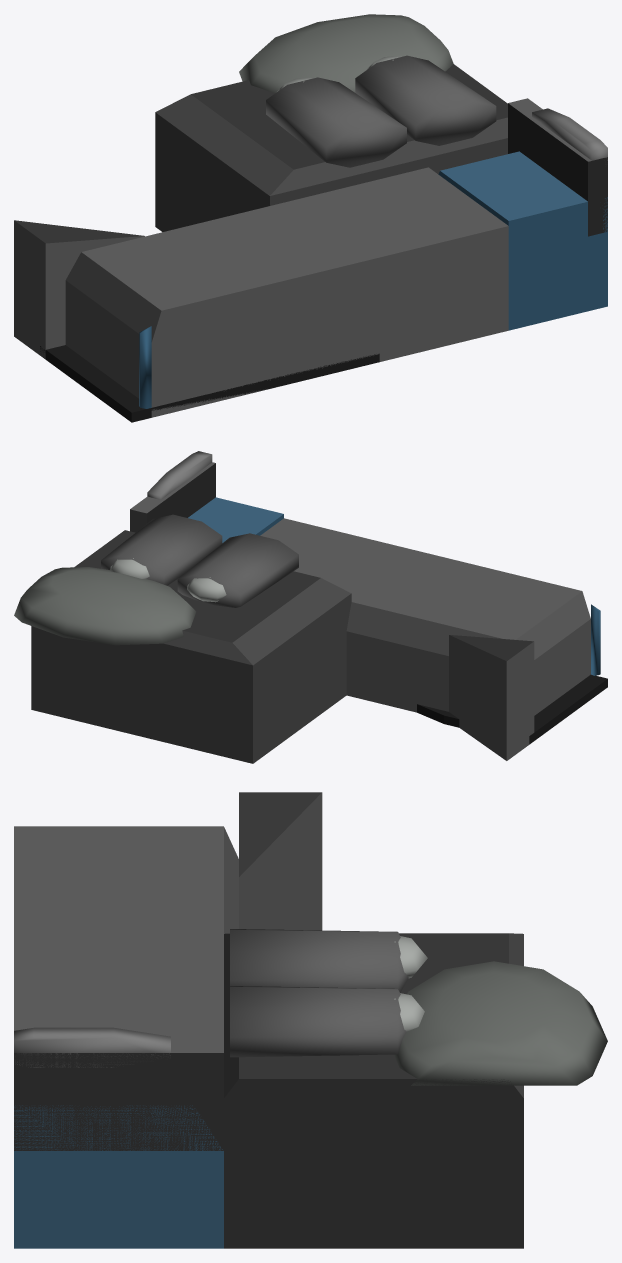
File: newsho-11.glb
The picture shows the model from 3 angles, top to bottom: view 1: azimuth 30°, elevation 25°; view 2: azimuth 150°, elevation 25°; view 3: azimuth 270°, elevation 25°; orthographic projection. The views are drawn at different scales.
Visible parts, largest first — view 1: newsho-11; view 2: newsho-11; view 3: newsho-11.
Part boxes in pixels (x1,y1,x2,y2): newsho-11: (14, 14, 607, 422); newsho-11: (14, 451, 607, 763); newsho-11: (14, 792, 607, 1248).
Size of the model in its own units: 2 by 0.6462 by 1.65.
